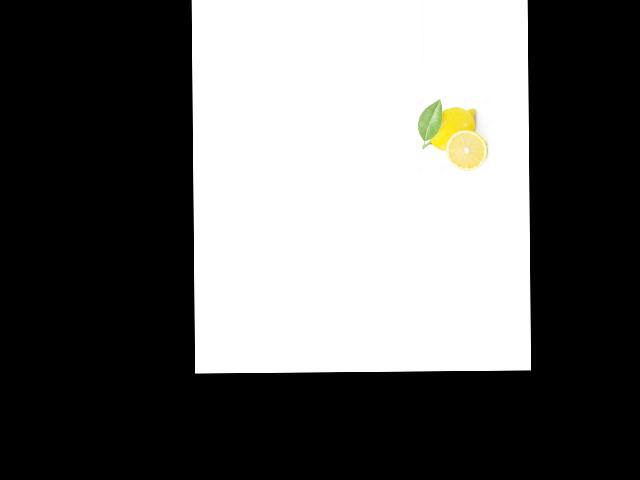lemon: (422, 104, 478, 153)
